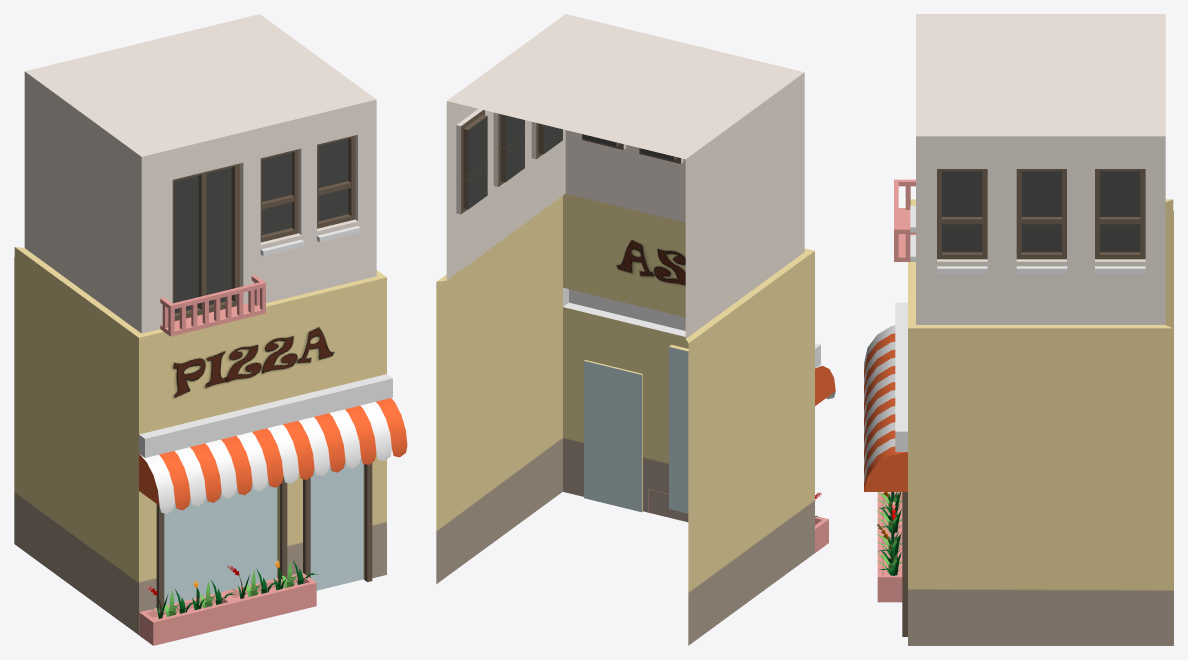
The model's file is pizza_shop.fbx.
3 renders of one model, left to right at view 1: azimuth 30°, elevation 25°; view 2: azimuth 150°, elevation 25°; view 3: azimuth 270°, elevation 25°, orthographic. The views are drawn at different scales.
Visible parts, largest first — view 1: pizza_shop; view 2: pizza_shop; view 3: pizza_shop.
Boxes of the visible parts, box(x1,y1,x2,y2) form: pizza_shop: box(14, 14, 407, 645); pizza_shop: box(436, 14, 835, 645); pizza_shop: box(864, 14, 1173, 645).
Bounding box in the file's own units: 441 × 806 × 447.
Materials: 1 (1 with a texture image).
